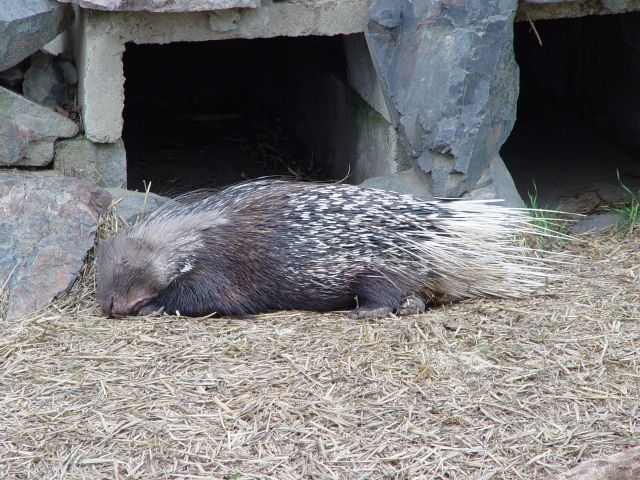porcupine: (78, 168, 584, 318)
